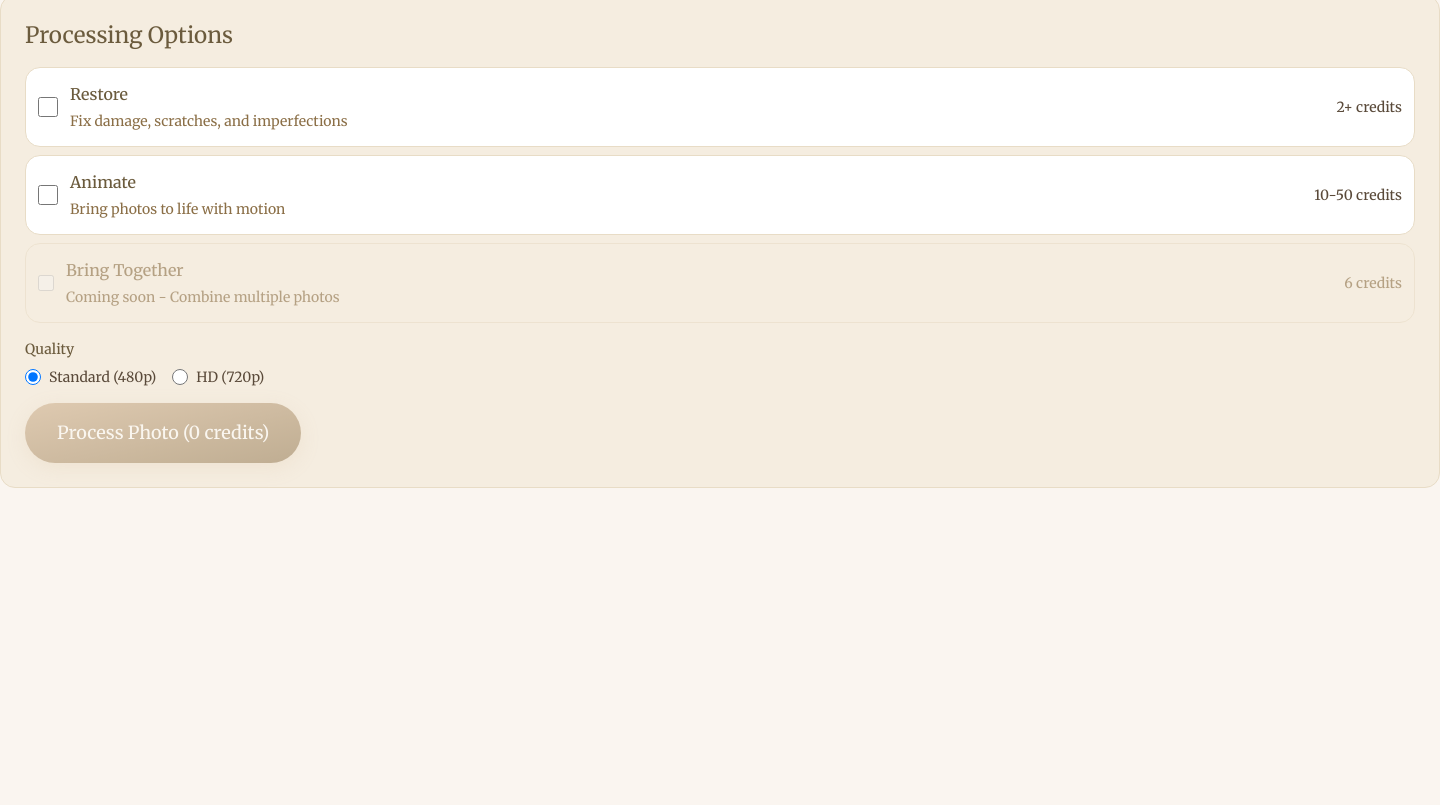
it: ProcessingOptionsPanel › Credit Calculation › should show cost breakdown when options are selected
This screenshot has width=1440, height=805.
Click the checkbox labelled "Restore Fix damage, scratches, and imperfections 2+ credits" at (48,107), box [38, 97, 58, 117]
(page scrolled)
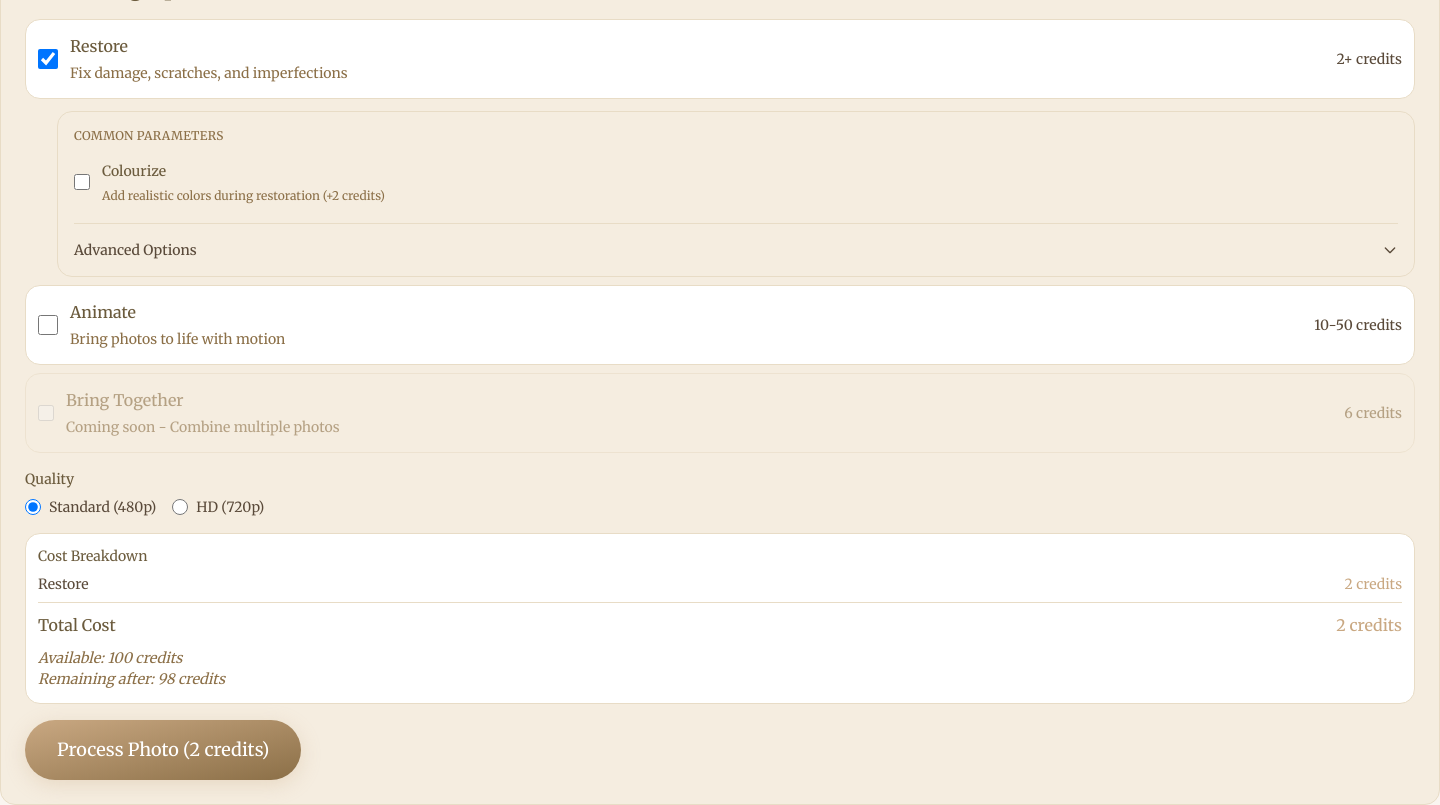
Now the button "Process Photo (2 credits)" is shown, box [25, 720, 301, 780]
